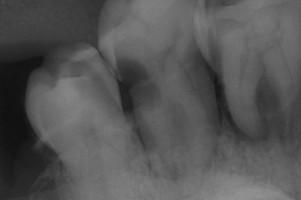Dental Caries: (215, 77, 301, 150)
